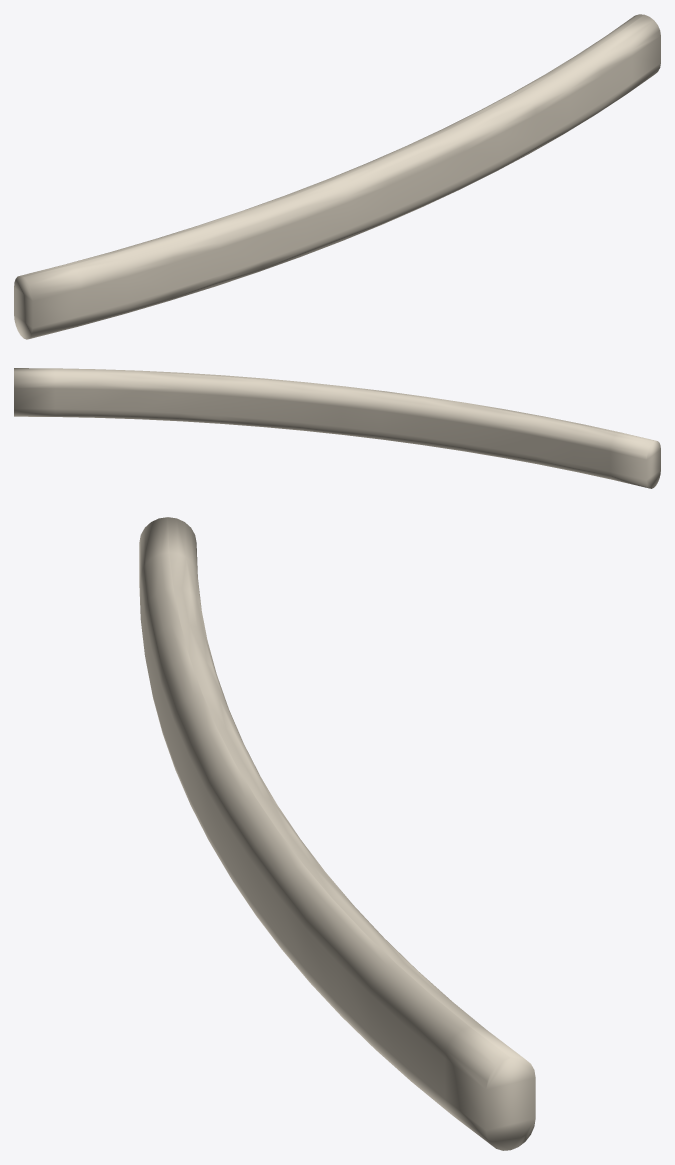
The model's file is ArcBand_R4_A30.glb.
The picture shows the model from 3 angles, top to bottom: view 1: azimuth 30°, elevation 25°; view 2: azimuth 150°, elevation 25°; view 3: azimuth 270°, elevation 25°; orthographic projection. The views are drawn at different scales.
Visible parts, largest first — view 1: PBK_Band.006; view 2: PBK_Band.006; view 3: PBK_Band.006.
Part boxes in pixels (x1,y1,x2,y2): PBK_Band.006: [14, 14, 660, 339]; PBK_Band.006: [14, 368, 660, 488]; PBK_Band.006: [139, 517, 535, 1150].
Size of the model in its own units: 2.03 by 0.16 by 0.6225.
